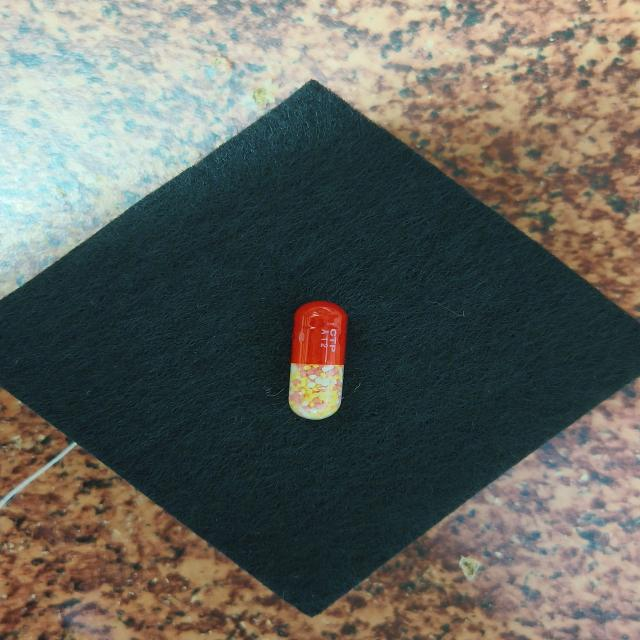Intact Capsule: (289, 301, 348, 419)
